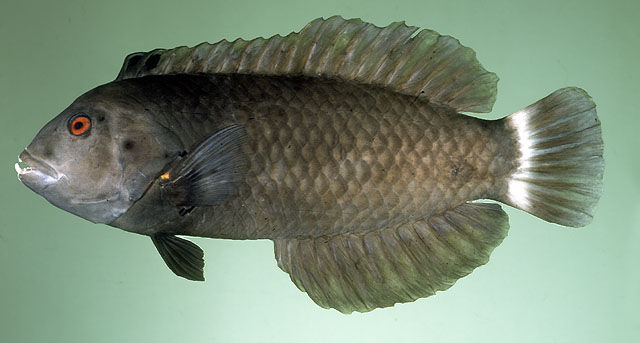fish: (14, 14, 604, 316)
